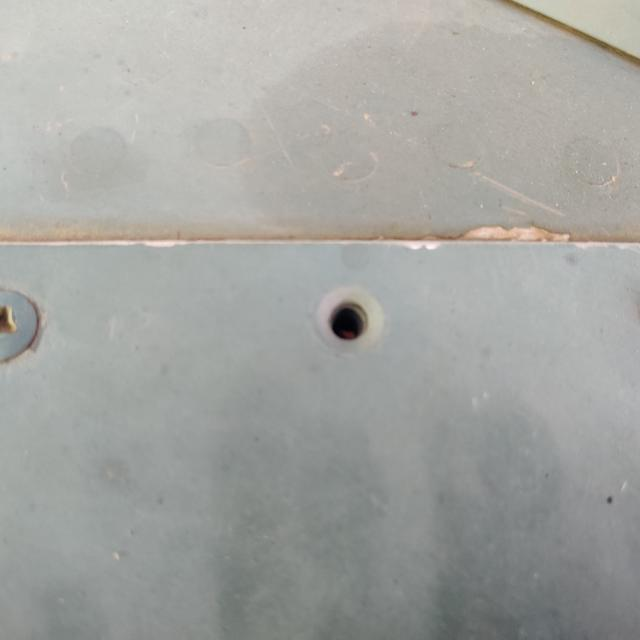missing-head: (279, 261, 412, 389)
